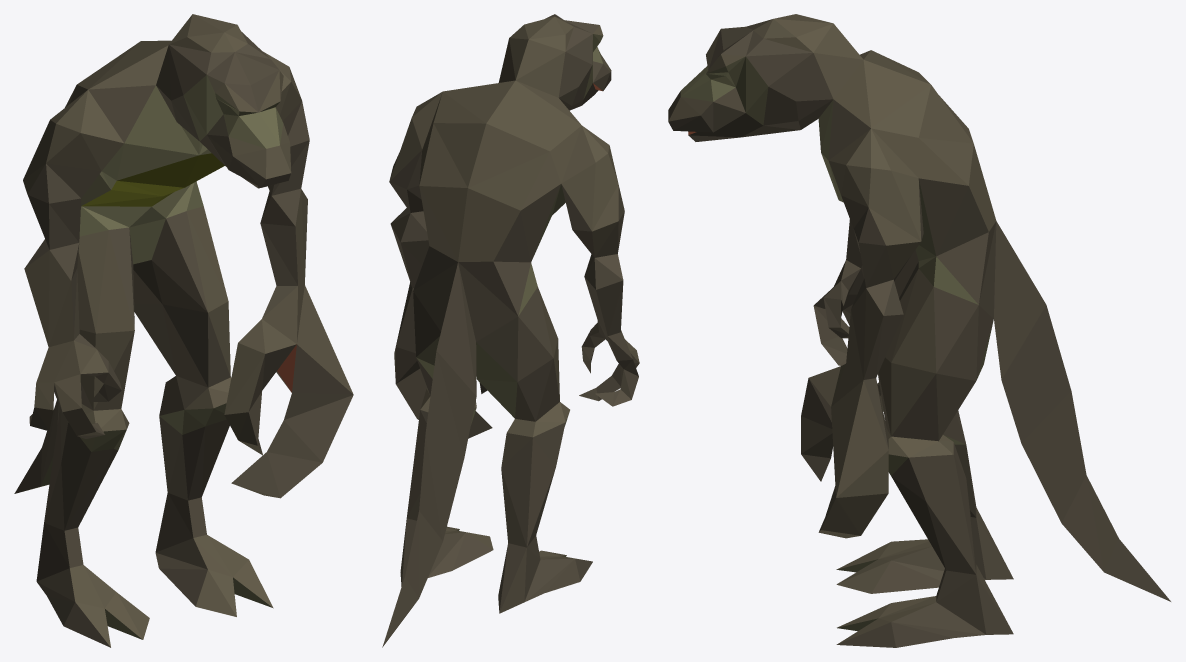
Rendered from dagannoth-kings.gltf.
3 views of the same model, side by side, from view 1: azimuth 30°, elevation 25°; view 2: azimuth 150°, elevation 25°; view 3: azimuth 270°, elevation 25° (orthographic). The views are drawn at different scales.
Size of the model in its own units: 135 by 259 by 201.
Materials: 1 (1 with a texture image).
